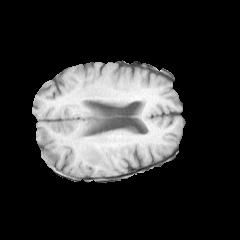glioma: (79, 134, 115, 177)
